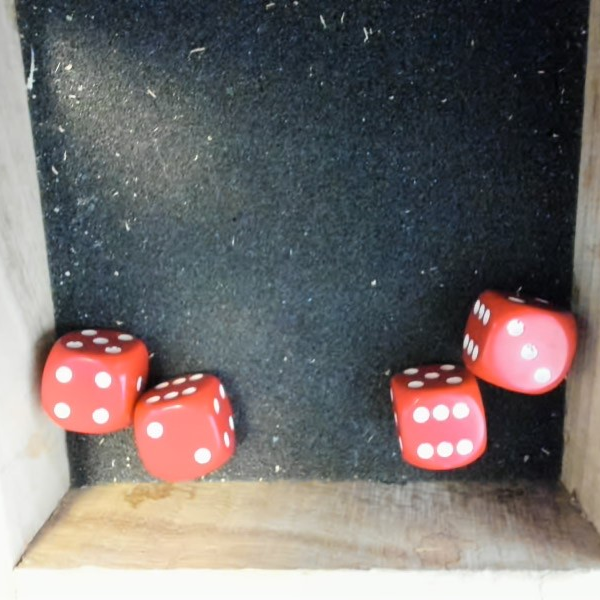red_die_pip2: (127, 364, 246, 487)
red_die_pip3: (451, 282, 582, 405)
red_die_pip4: (42, 324, 150, 431)
red_die_pip6: (380, 356, 489, 477)
